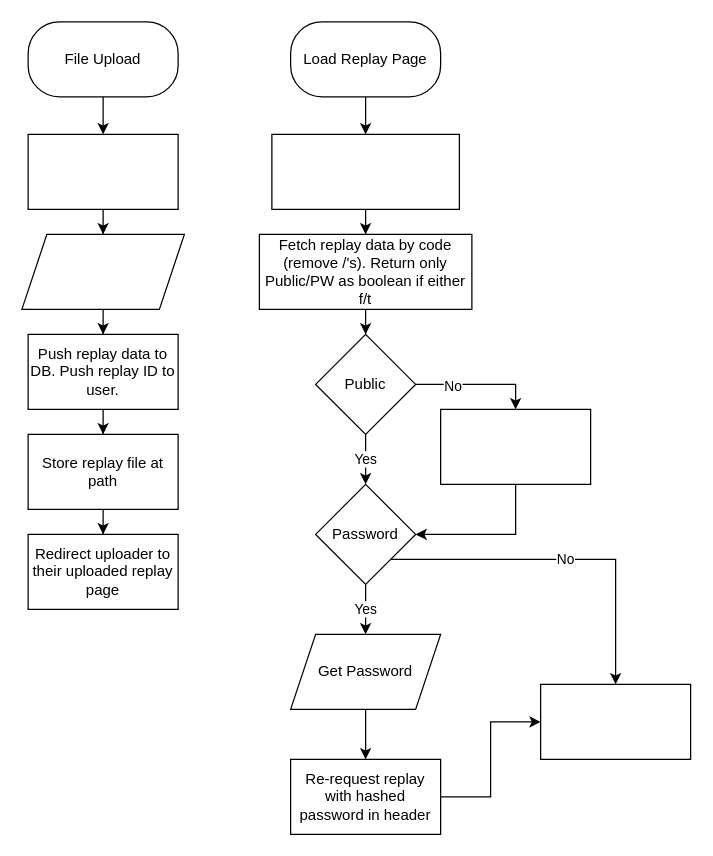
Some shapes in this 713 by 856 pixel diagram are drawn without their labels. Here are the shapes that lost their labels. From the top down, the centre of each, then its label:
the point at 102,171: Process Replay
the point at 365,171: Get replay code from URL (Uploader/Beatmap/Date)
the point at 102,271: Get password and public
the point at 515,446: Prompt sign in
the point at 615,721: Display replay data
